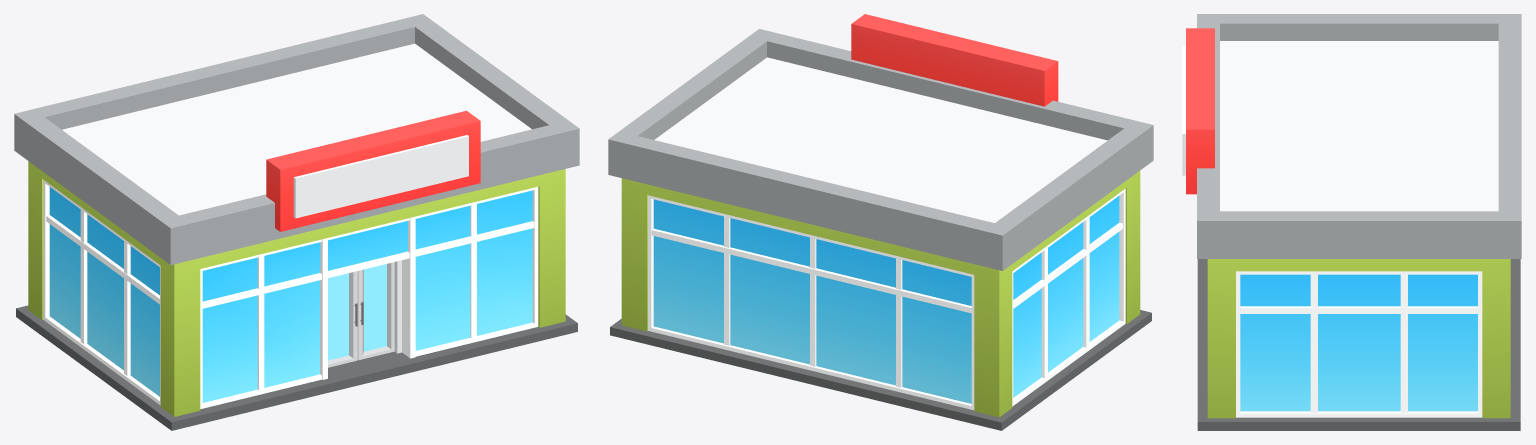
File: city2-building-supermarket-07.glb
3 renders of one model, left to right at view 1: azimuth 30°, elevation 25°; view 2: azimuth 150°, elevation 25°; view 3: azimuth 270°, elevation 25°, orthographic. The views are drawn at different scales.
Visible parts, largest first — view 1: Building_Supermarket_07; view 2: Building_Supermarket_07; view 3: Building_Supermarket_07.
Boxes of the visible parts, <box> form: Building_Supermarket_07: <box>14,14,579,430</box>; Building_Supermarket_07: <box>608,14,1153,430</box>; Building_Supermarket_07: <box>1182,14,1521,430</box>.
Size of the model in its own units: 9.93 by 5.57 by 6.88.
1 material, 1 textured.
